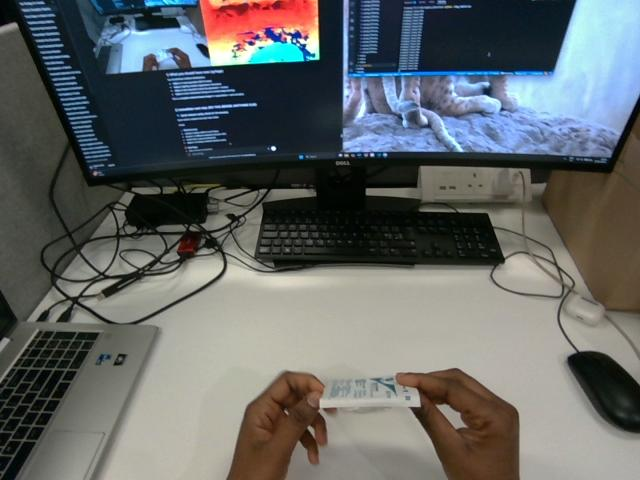gauze: (320, 377, 420, 407)
